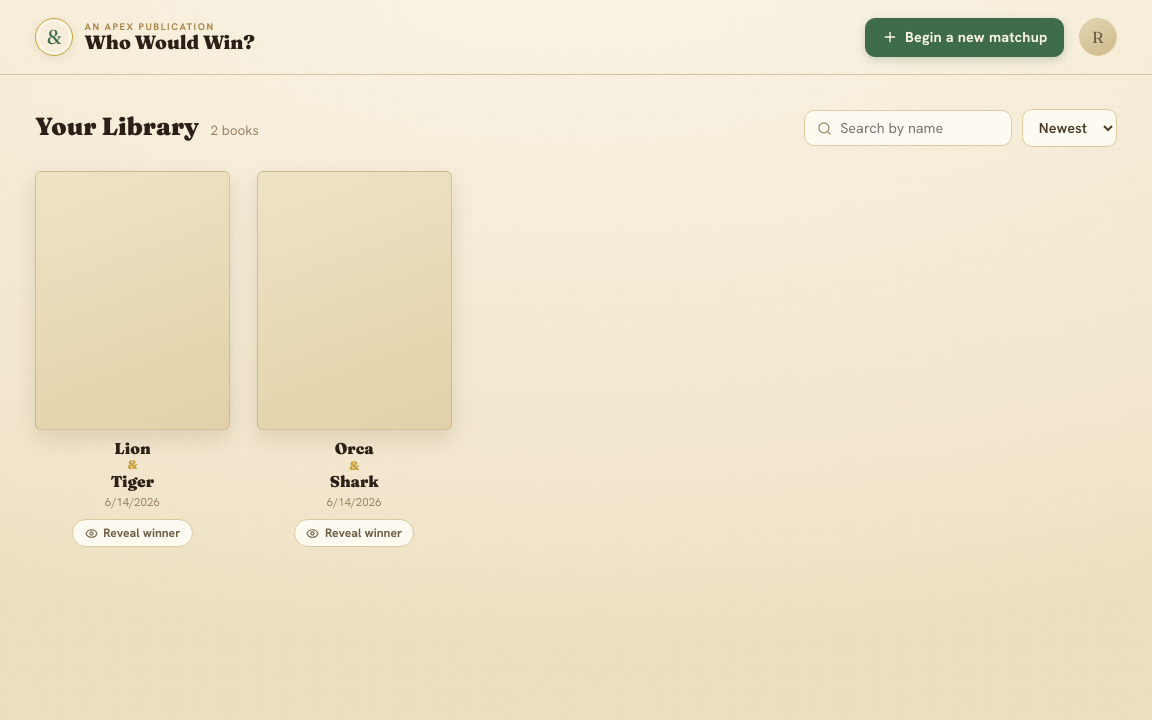
Scenario: Dashboard › browse › filters by contender name
This screenshot has width=1152, height=720.
Expected: the heading "Orca & Shark" is shown, [330,439,379,491]
Type "orca" into the search field labelled "Search by name" at (920, 128), box [840,119,999,137]
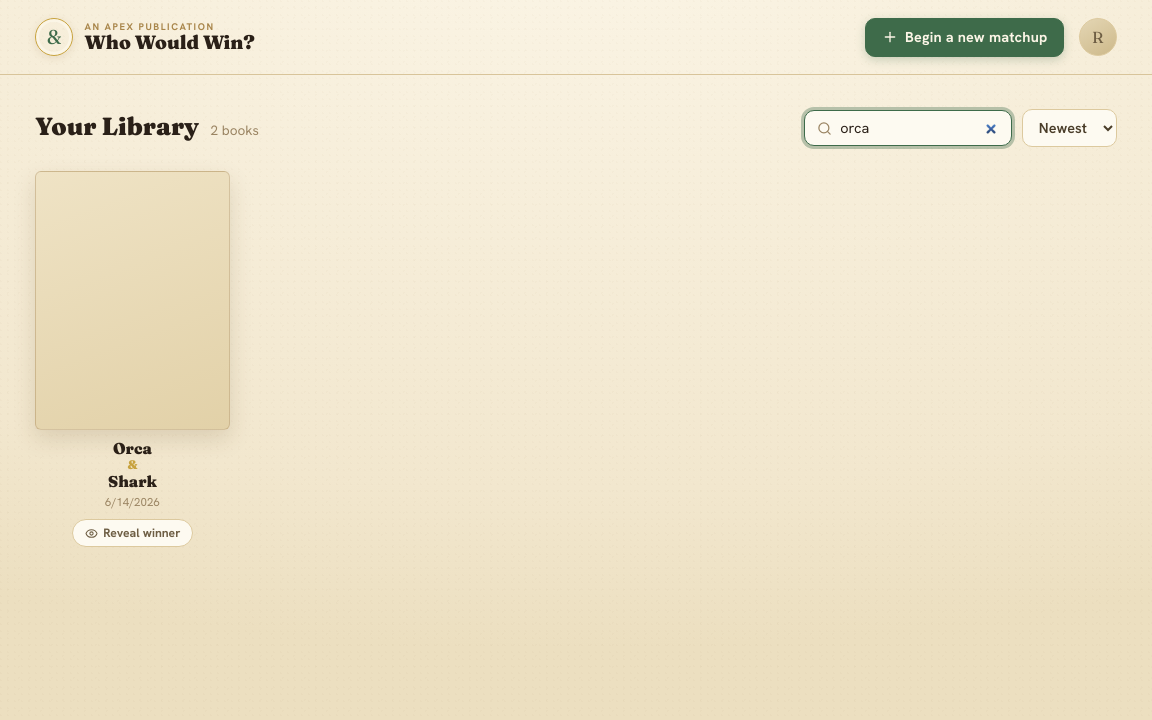
Expected: the heading "Orca & Shark" is shown, [108,439,157,490]
Expected: the heading "Lion & Tiger" is gone
